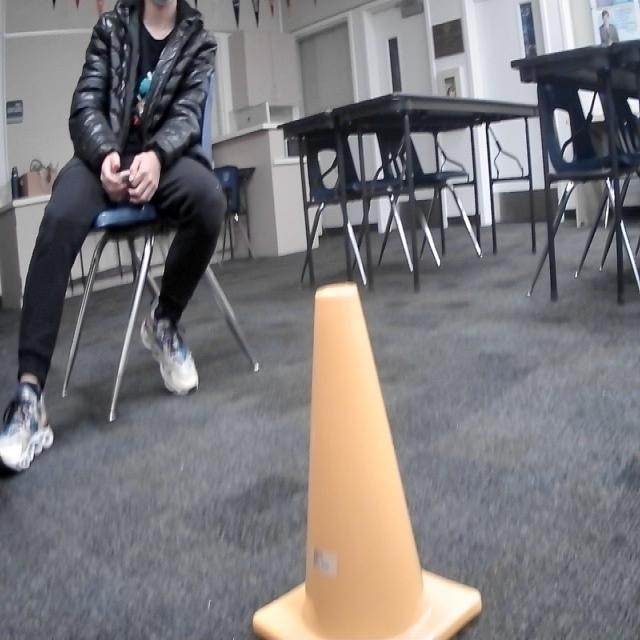cone: (252, 281, 484, 640)
